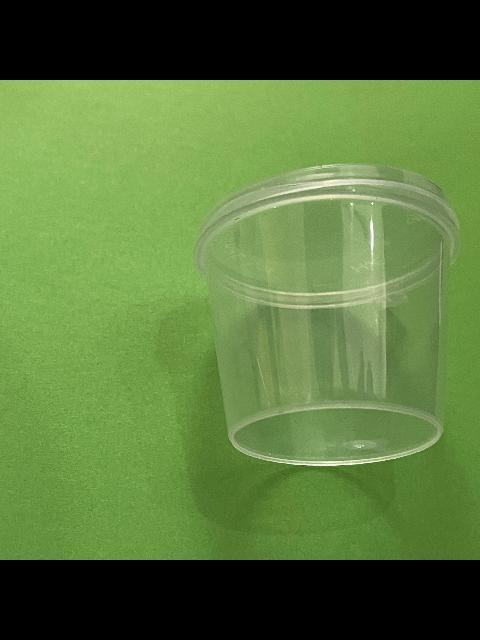plasticcontainer: (186, 159, 463, 469)
